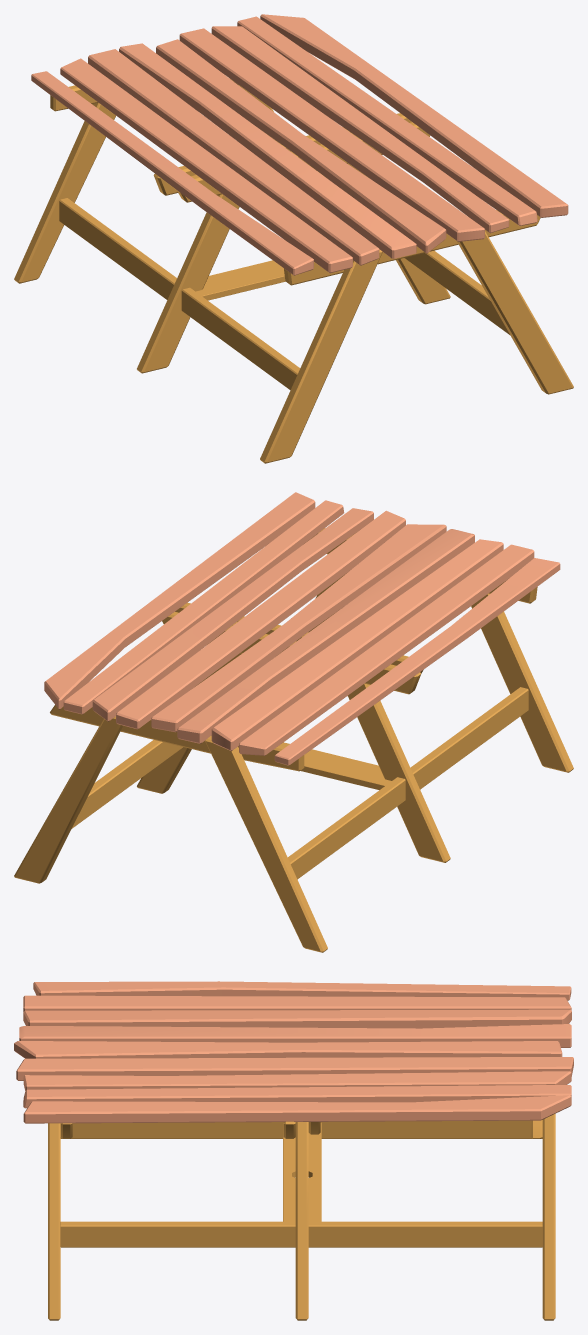
File: Picnik_Table.fbx
The picture shows the model from 3 angles, top to bottom: view 1: azimuth 30°, elevation 25°; view 2: azimuth 150°, elevation 25°; view 3: azimuth 270°, elevation 25°; orthographic projection.
Visible parts, largest first — view 1: Table.001, TableStand.002; view 2: Table.001, TableStand.002; view 3: Table.001, TableStand.002.
Boxes of the visible parts, x1=… form: Table.001: x1=31, y1=14, x2=568, y2=275; TableStand.002: x1=14, y1=79, x2=573, y2=463; Table.001: x1=44, y1=492, x2=560, y2=765; TableStand.002: x1=14, y1=528, x2=573, y2=952; Table.001: x1=14, y1=981, x2=573, y2=1123; TableStand.002: x1=48, y1=1113, x2=555, y2=1320.
Bounding box in the file's own units: 170 × 106 × 264.
